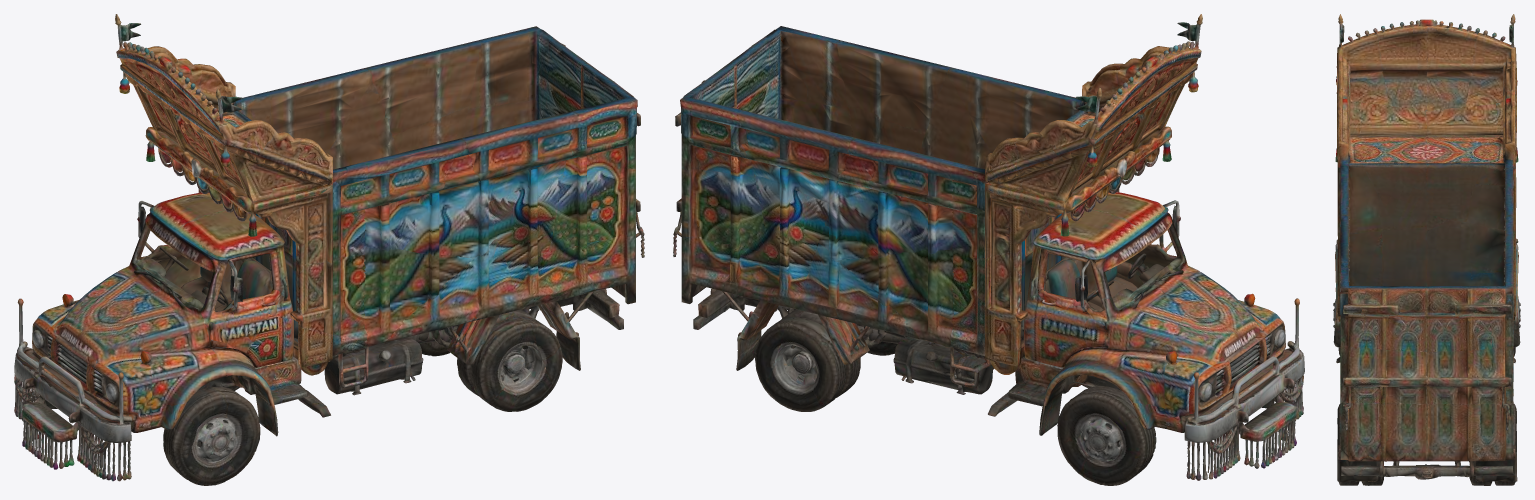
Rendered from player_truck.glb.
3 views of the same model, side by side, from view 1: azimuth 30°, elevation 25°; view 2: azimuth 150°, elevation 25°; view 3: azimuth 270°, elevation 25° (orthographic). The views are drawn at different scales.
Parts seen in each view (by area): view 1: mesh_node; view 2: mesh_node; view 3: mesh_node.
Part boxes in pixels (bbox=[...]): mesh_node: bbox=[14, 14, 644, 485]; mesh_node: bbox=[673, 14, 1304, 485]; mesh_node: bbox=[1333, 14, 1520, 485].
Size of the model in its own units: 4.72 by 3.2 by 1.6.
Materials: 1 (1 with a texture image).
